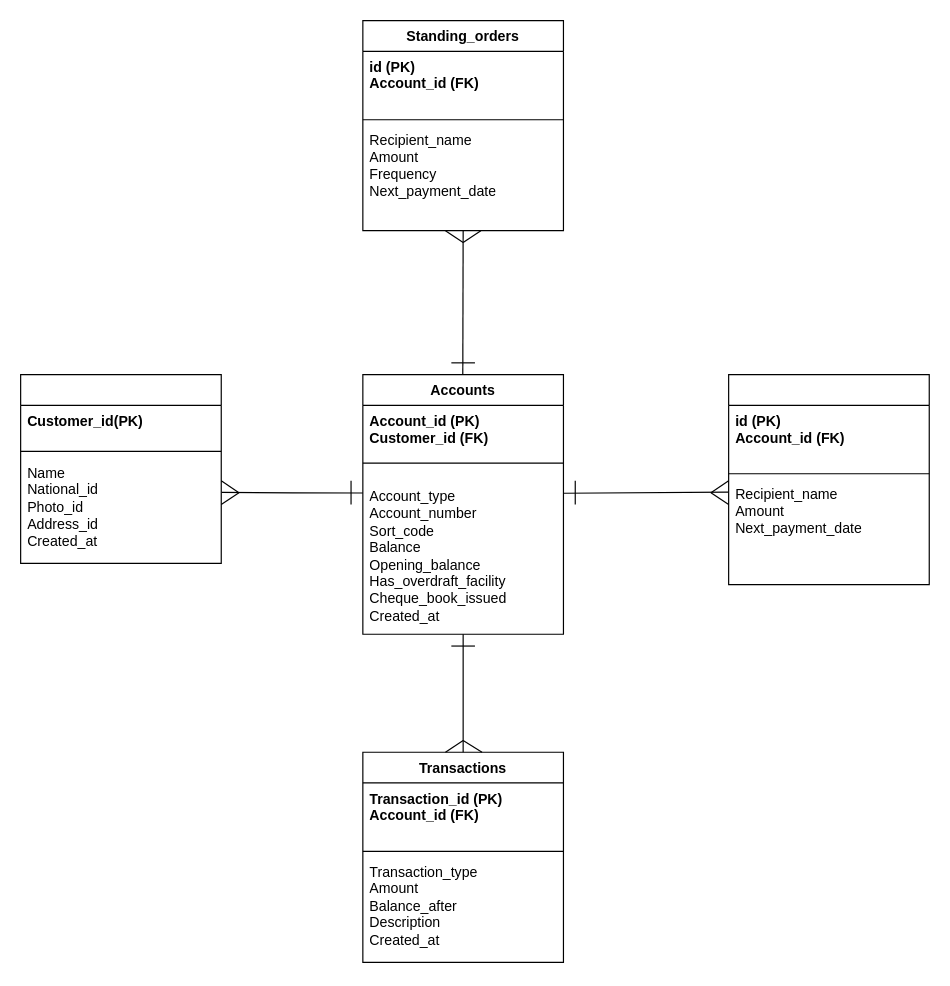
Image size: 950x986. Some labels were removed from this diagram. Each missing label, with the box of its shape:
Customers: (19, 373, 221, 563)
Direct_debits: (727, 373, 929, 585)
